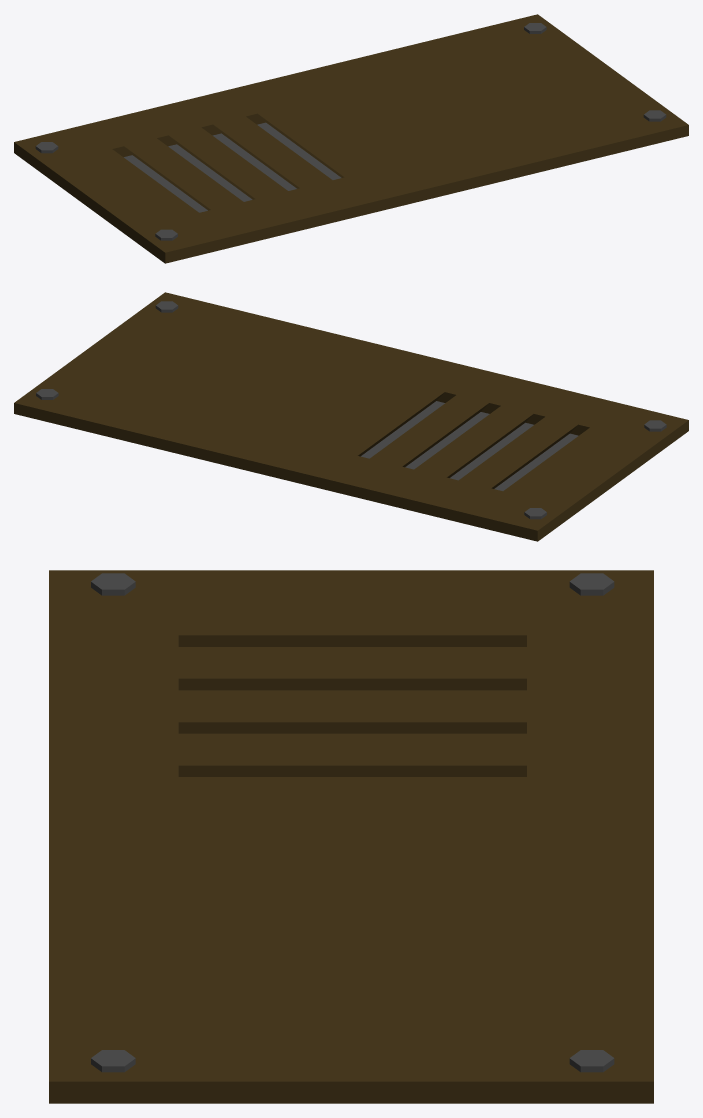
Rendered from grate.fbx.
3 renders of one model, top to bottom at view 1: azimuth 30°, elevation 25°; view 2: azimuth 150°, elevation 25°; view 3: azimuth 270°, elevation 25°, orthographic. The views are drawn at different scales.
Parts seen in each view (by area): view 1: Grate; view 2: Grate; view 3: Grate.
Part boxes in pixels (<box>): Grate: <box>14,14,688,263</box>; Grate: <box>14,292,688,541</box>; Grate: <box>49,570,653,1103</box>.
Bounding box in the file's own units: 100 × 50 × 2.88.
